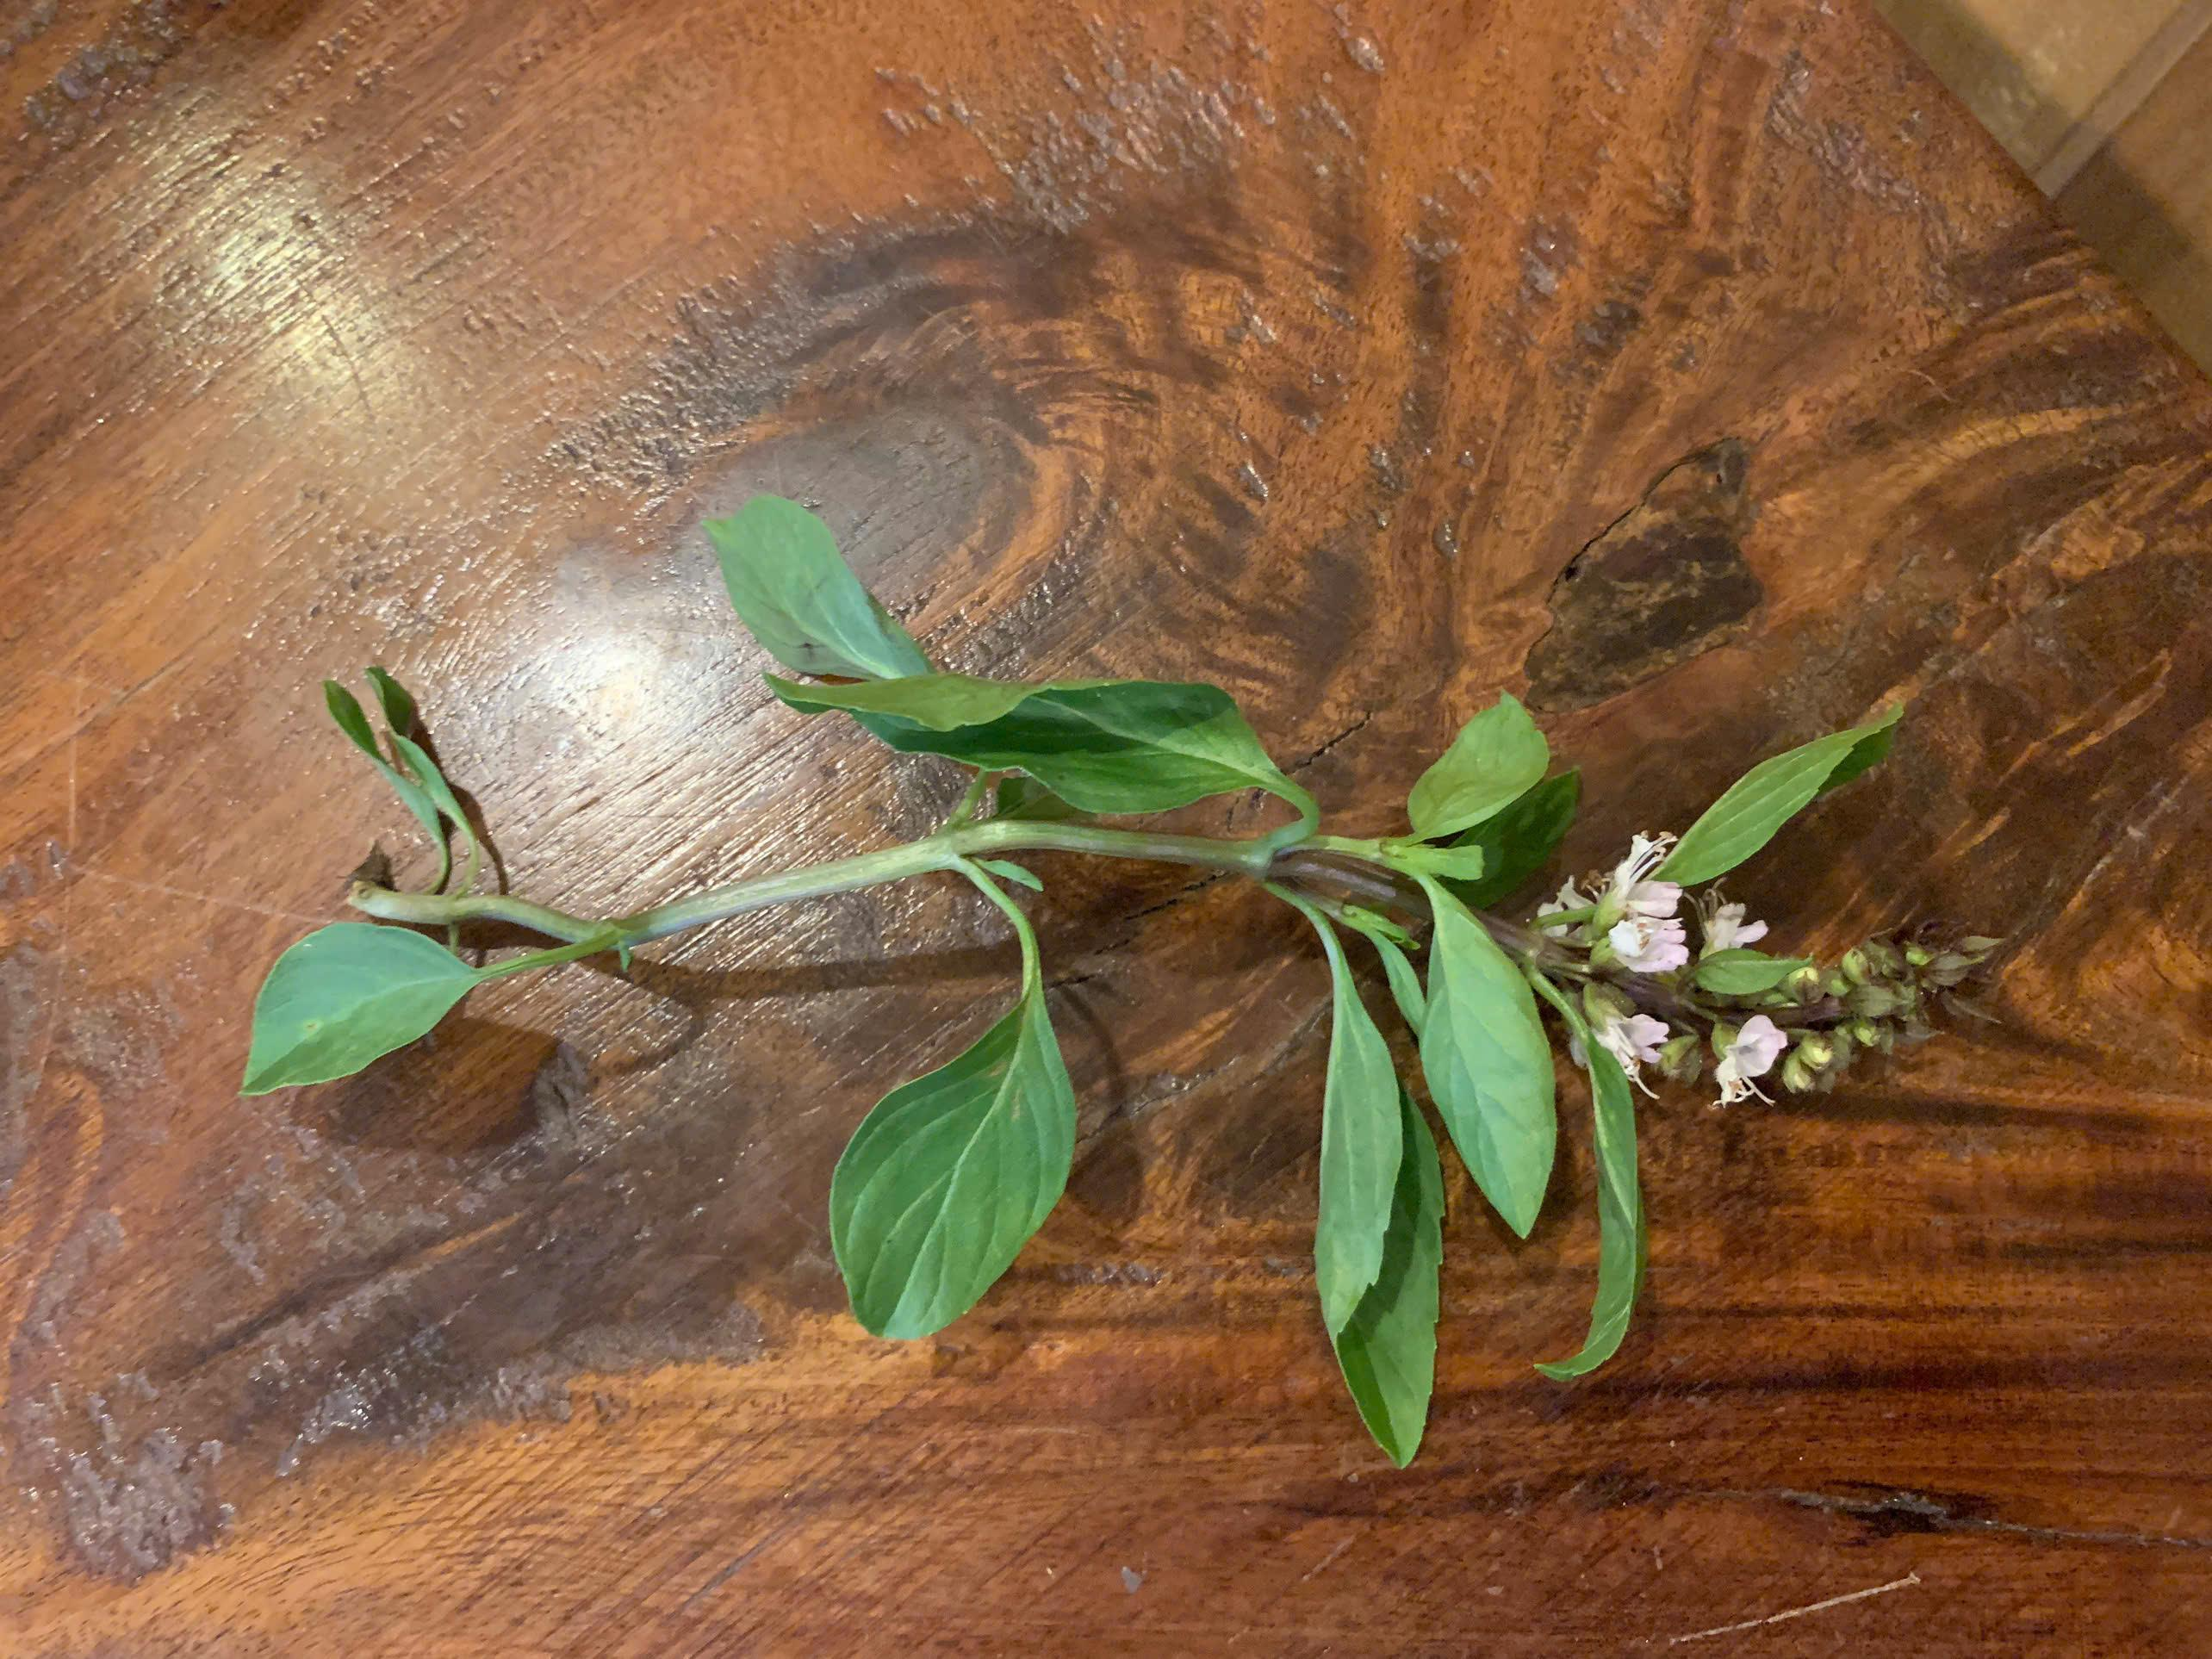Huu co: (289, 512, 1646, 1384)
